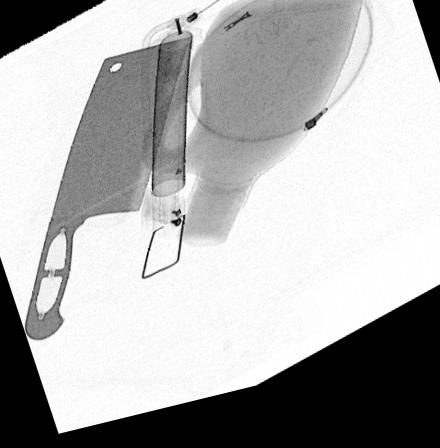Knife: (24, 43, 193, 345)
